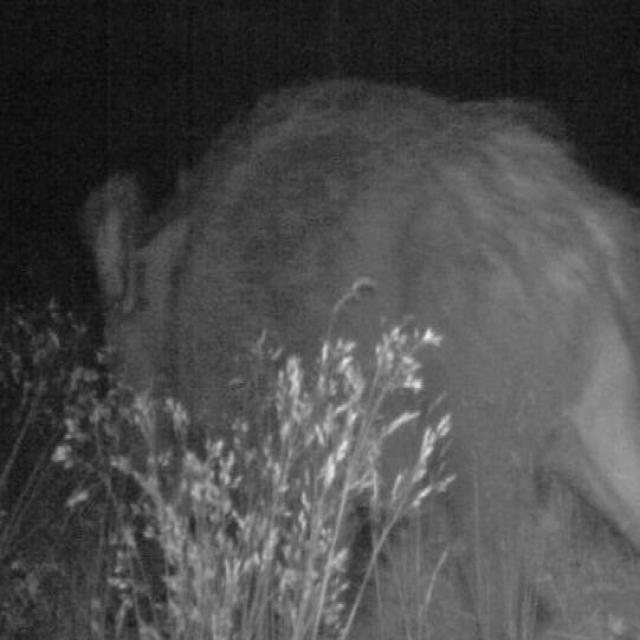pig: (79, 27, 640, 640)
